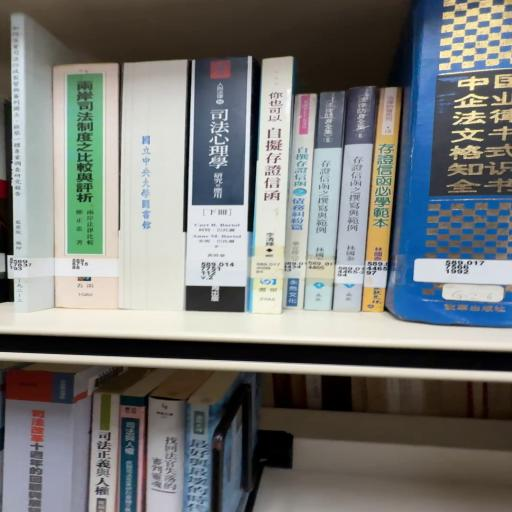backward: (119, 59, 190, 309)
book: (386, 6, 512, 335), (186, 53, 259, 312), (250, 55, 294, 314), (147, 397, 189, 512), (89, 393, 122, 512)
